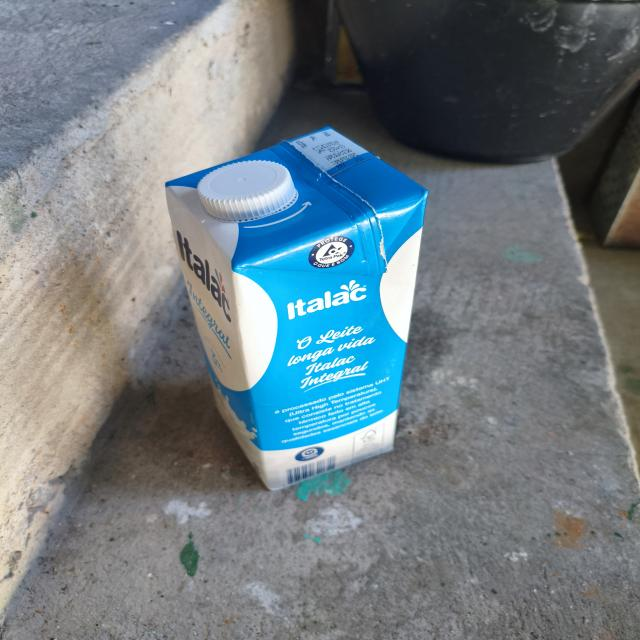Caixa de Leite: (143, 117, 420, 493)
